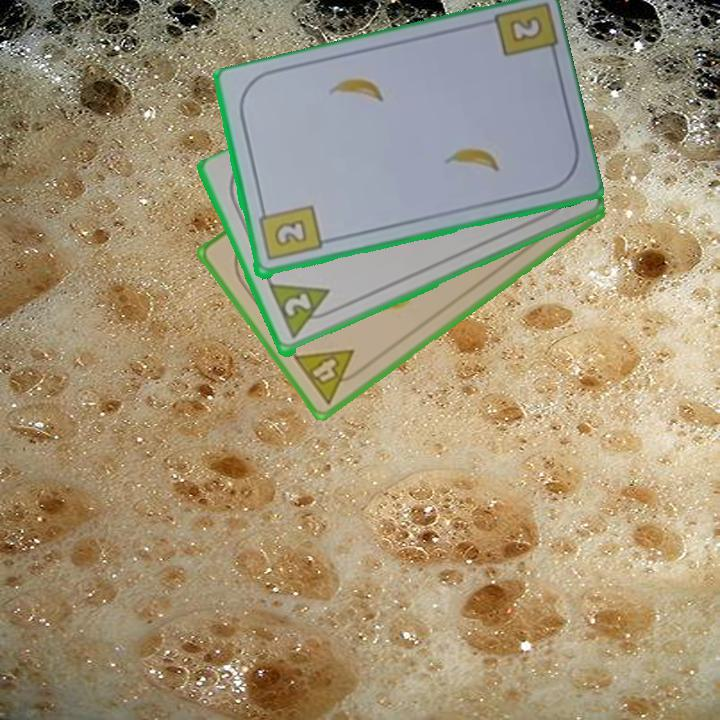2b: (254, 202, 324, 264), (505, 12, 546, 46)
2p: (265, 280, 340, 342)
4p: (289, 345, 369, 408)
